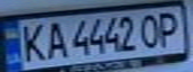2: (118, 12, 139, 52)
4: (66, 16, 90, 56), (103, 14, 124, 54), (87, 15, 106, 55)
A: (42, 18, 69, 60)
K: (15, 20, 48, 63)
O: (136, 11, 163, 50)
P: (154, 9, 184, 47)
